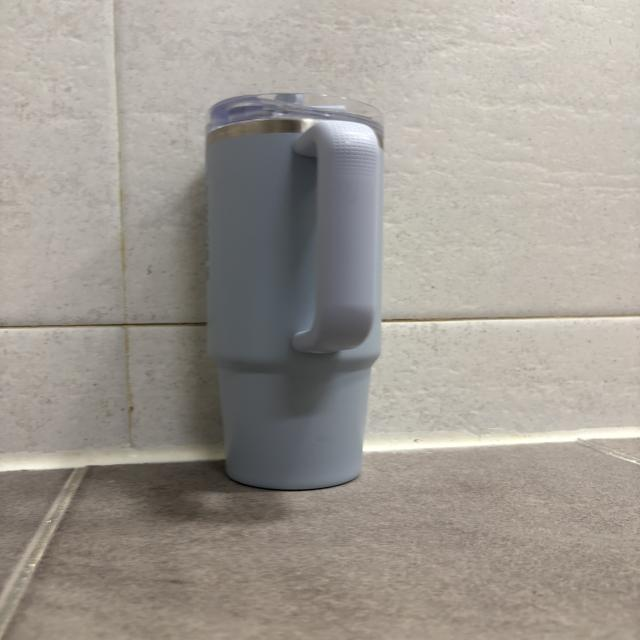waterbottle: (205, 90, 382, 490)
